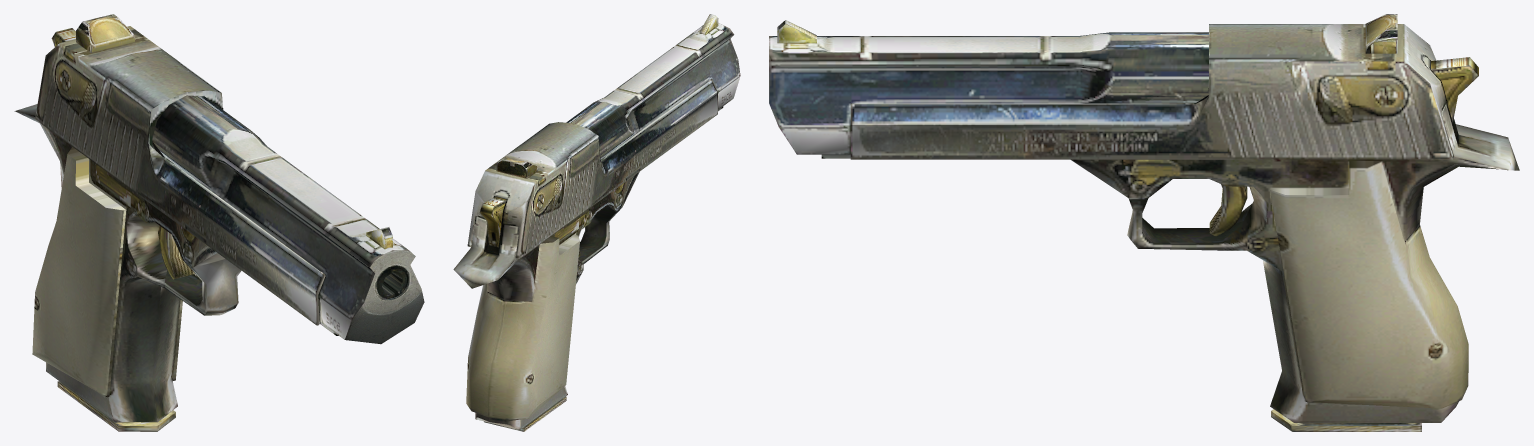
Rendered from DesertEagle_L0.fbx.
The picture shows the model from 3 angles, left to right: view 1: azimuth 30°, elevation 25°; view 2: azimuth 150°, elevation 25°; view 3: azimuth 270°, elevation 25°; orthographic projection. The views are drawn at different scales.
Visible parts, largest first — view 1: DesertEagle, Slide, Clip; view 2: DesertEagle, Slide, Clip; view 3: DesertEagle, Slide, Clip.
Part boxes in pixels (left/top/right/bottom): DesertEagle: left=14, top=28, right=424, bottom=422; Slide: left=35, top=14, right=325, bottom=325; Clip: left=57, top=381, right=175, bottom=431; DesertEagle: left=453, top=14, right=740, bottom=429; Slide: left=467, top=79, right=717, bottom=258; Clip: left=484, top=396, right=566, bottom=431; DesertEagle: left=769, top=20, right=1519, bottom=422; Slide: left=850, top=14, right=1453, bottom=159; Clip: left=1271, top=409, right=1421, bottom=431.
Bounding box in the file's own units: 0.0409 × 0.1621 × 0.2791.
